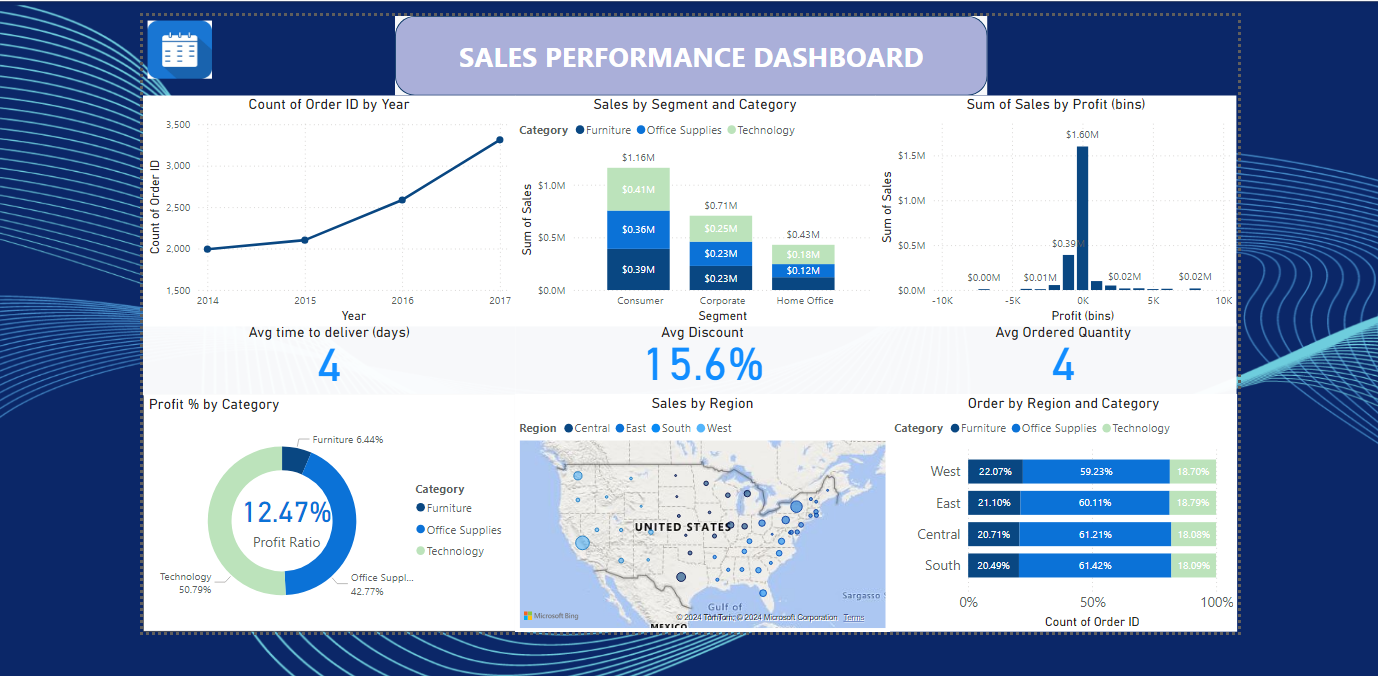

What the dashboard file says about the page in this screenshot:
{"tool":"powerbi","page":{"name":"Dashboard","canvas":[1280,720],"ordinal":2},"visuals":[{"type":"lineChart","fields":{"Category":["Orders.Order Date.Variation.Date Hierarchy.Year"],"Y":["CountNonNull(Orders.Order ID)"]},"box":[0,92.1,435.1,270.2],"z":0,"group":"g2"},{"type":"donutChart","title":"Profit % by Category","fields":{"Y":["Sum(Orders.Profit)"],"Series":["Orders.Category"]},"box":[0,442.2,435.9,278.1],"z":0,"group":"g1"},{"type":"columnChart","title":"Sales by Segment and Category","fields":{"Series":["Orders.Category"],"Category":["Orders.Segment"],"Y":["Sum(Orders.Sales)"]},"box":[435.1,92.1,421.1,270.2],"z":1000,"group":"g2"},{"type":"card","fields":{"Values":["Orders.Profit Ratio"]},"box":[63.3,544.9,208.6,83.8],"z":1000,"group":"g1"},{"type":"clusteredColumnChart","fields":{"Category":["Orders.Profit (bins)"],"Y":["Sum(Orders.Sales)"]},"box":[856.1,92.1,422.8,270.2],"z":2000,"group":"g2"},{"type":"group","id":"g1","title":"Group 1","box":[0,442.2,435.9,278.1],"z":3000},{"type":"map","title":"Sales by Region","fields":{"Size":["Sum(Orders.Sales)"],"Series":["Orders.Region"],"Category":["Orders.State"]},"box":[435.1,442.1,438.6,278.9],"z":4000},{"type":"hundredPercentStackedBarChart","title":"Order by Region and Category","fields":{"Category":["Orders.Region"],"Y":["CountNonNull(Orders.Order ID)"],"Series":["Orders.Category"]},"box":[873.4,442.2,406.2,278.1],"z":5000},{"type":"card","title":"Avg time to deliver (days)","fields":{"Values":["Orders.Avg time to deliver"]},"box":[0,359.6,435.1,84.2],"z":6000},{"type":"card","title":"Avg Discount","fields":{"Values":["Orders.avg discount"]},"box":[435.1,359.6,438.6,82.5],"z":7000},{"type":"card","title":"Avg Ordered Quantity","fields":{"Values":["Orders.Avg order quantity"]},"box":[873.7,359.6,405.3,82.5],"z":8000},{"type":"shape","box":[294.7,0,693,93],"z":9000},{"type":"image","box":[0,0,85.9,78.1],"z":9003},{"type":"group","id":"g2","title":"Group 2","box":[0,92.1,1278.9,270.2],"z":9004}]}

Visuals, with their boxes on the page's 1280x720 design canvas (x1, y1, x2, y2). These are canvas units, not pixel positions in the 1378x676 screenshot, which may show the page scaled, cropped or inside an application window:
lineChart - Orders.Order Date.Variation.Date Hierarchy.Year x CountNonNull(Orders.Order ID): box=[0, 92, 435, 362]
"Profit % by Category" donutChart: box=[0, 442, 436, 720]
"Sales by Segment and Category" columnChart: box=[435, 92, 856, 362]
card - Orders.Profit Ratio: box=[63, 545, 272, 629]
clusteredColumnChart - Orders.Profit (bins) x Sum(Orders.Sales): box=[856, 92, 1279, 362]
"Group 1" group: box=[0, 442, 436, 720]
"Sales by Region" map: box=[435, 442, 874, 721]
"Order by Region and Category" hundredPercentStackedBarChart: box=[873, 442, 1280, 720]
"Avg time to deliver (days)" card: box=[0, 360, 435, 444]
"Avg Discount" card: box=[435, 360, 874, 442]
"Avg Ordered Quantity" card: box=[874, 360, 1279, 442]
shape: box=[295, 0, 988, 93]
image: box=[0, 0, 86, 78]
"Group 2" group: box=[0, 92, 1279, 362]
